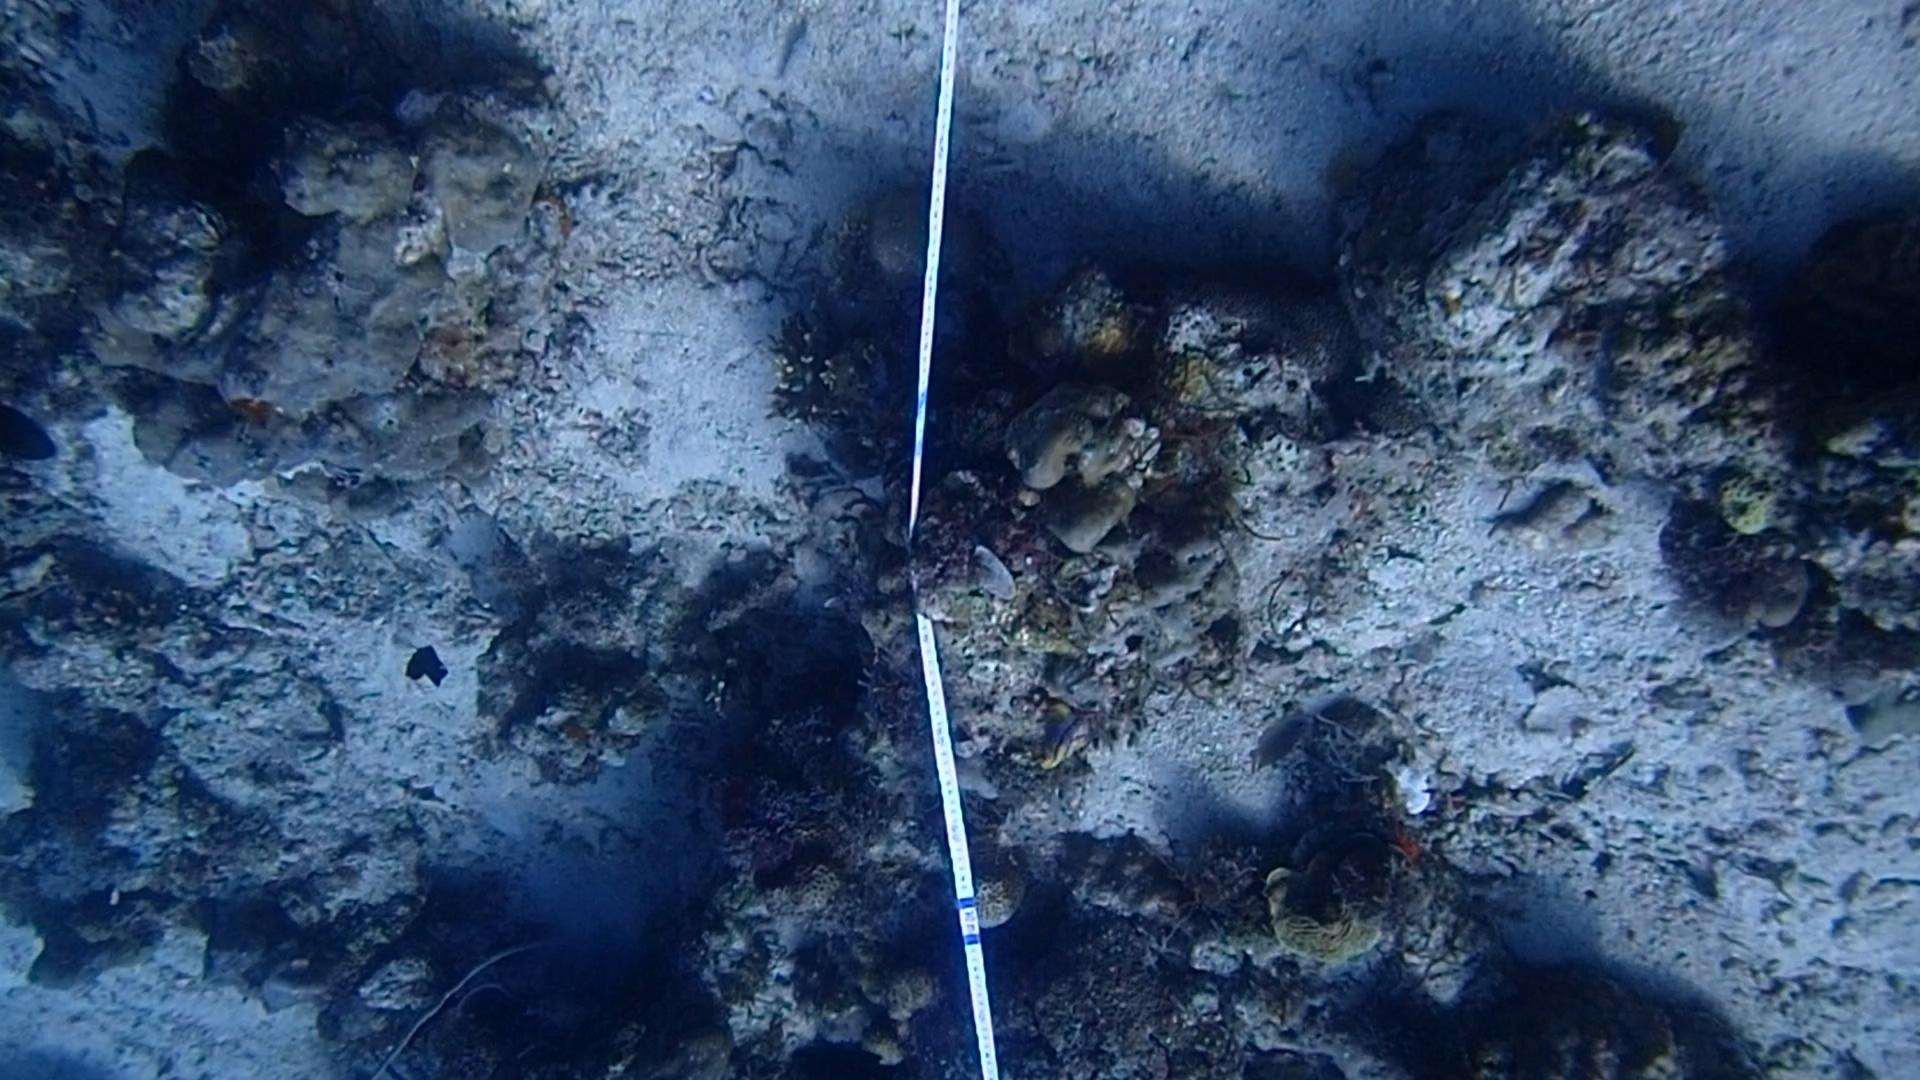Dark Fish: (0, 400, 58, 475), (401, 636, 455, 699)
Light Fish: (1242, 700, 1315, 781)
